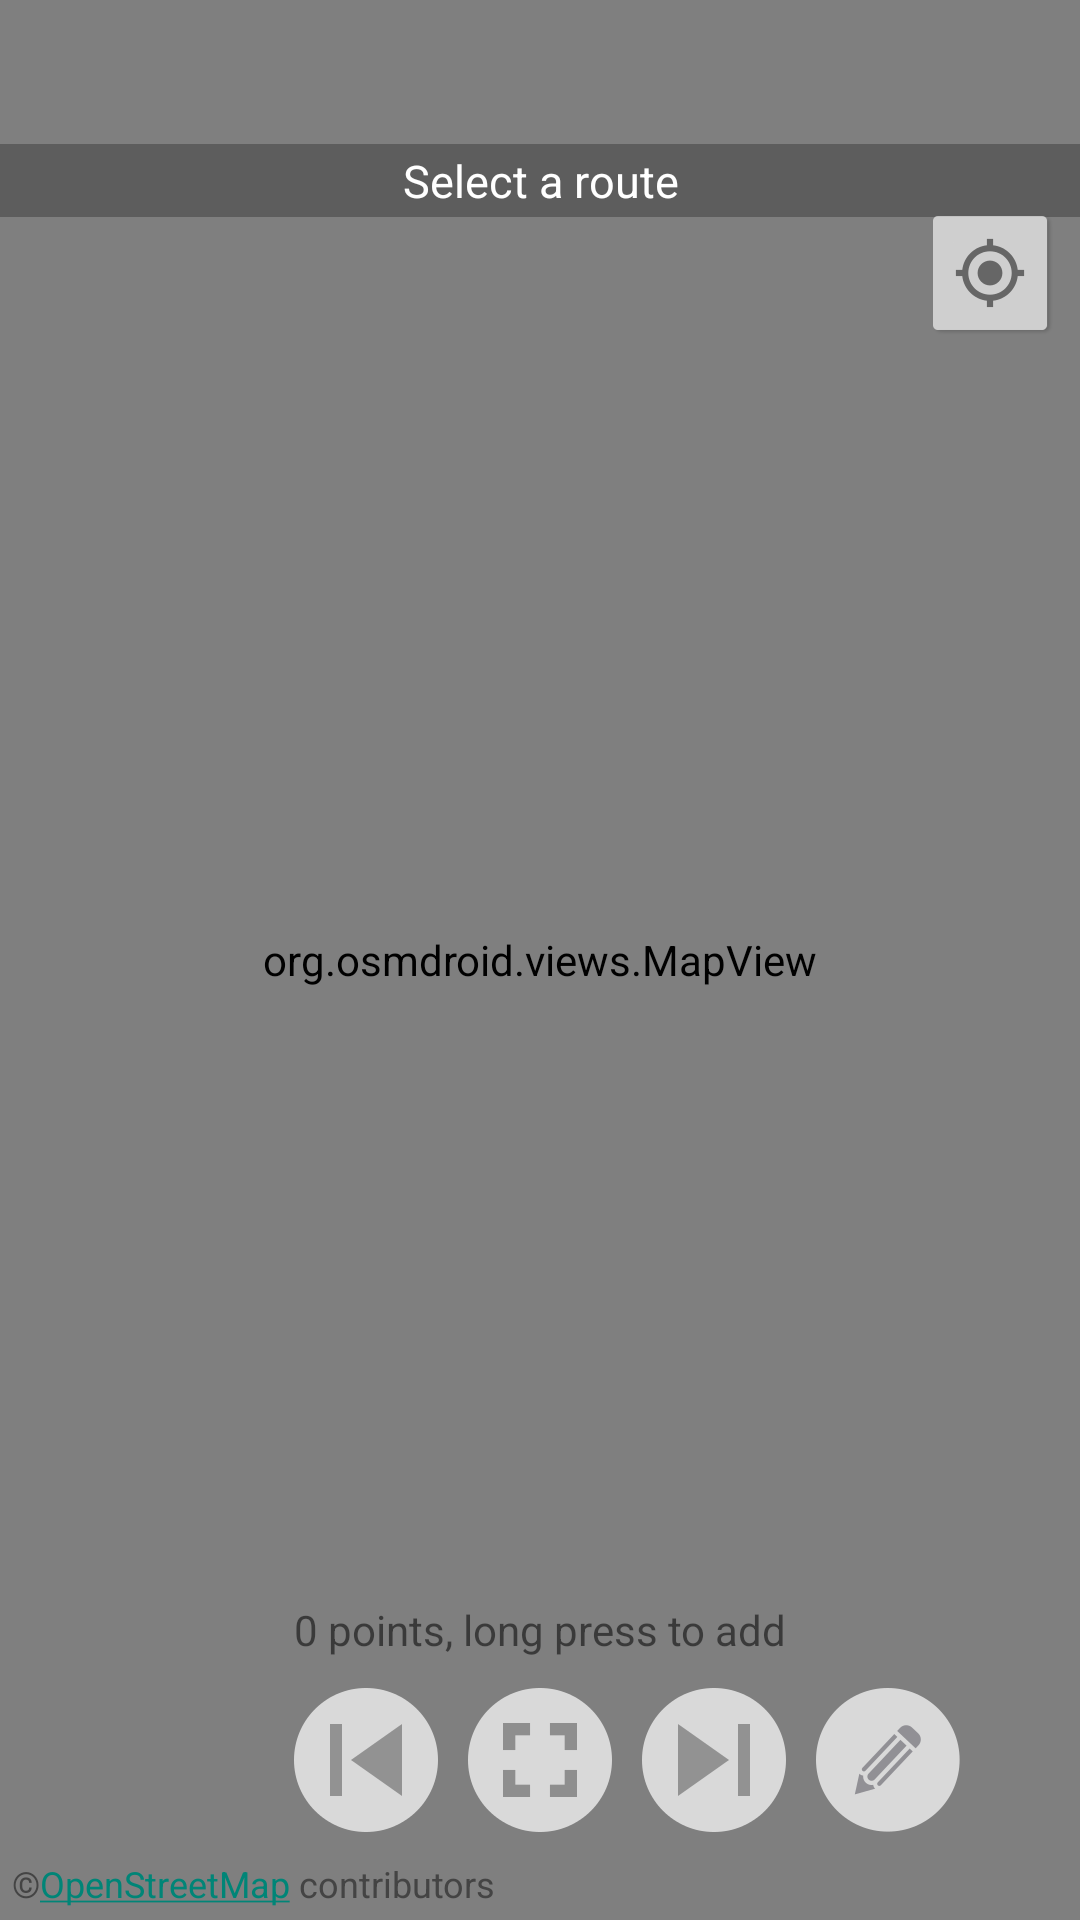

Named icons in this screenshot (1080w x 1920h) and their bounding boxes, (x1, y1, x2, y2):
map fit: (468, 1688, 612, 1832)
map next: (642, 1688, 786, 1832)
map previous: (294, 1688, 438, 1832)
